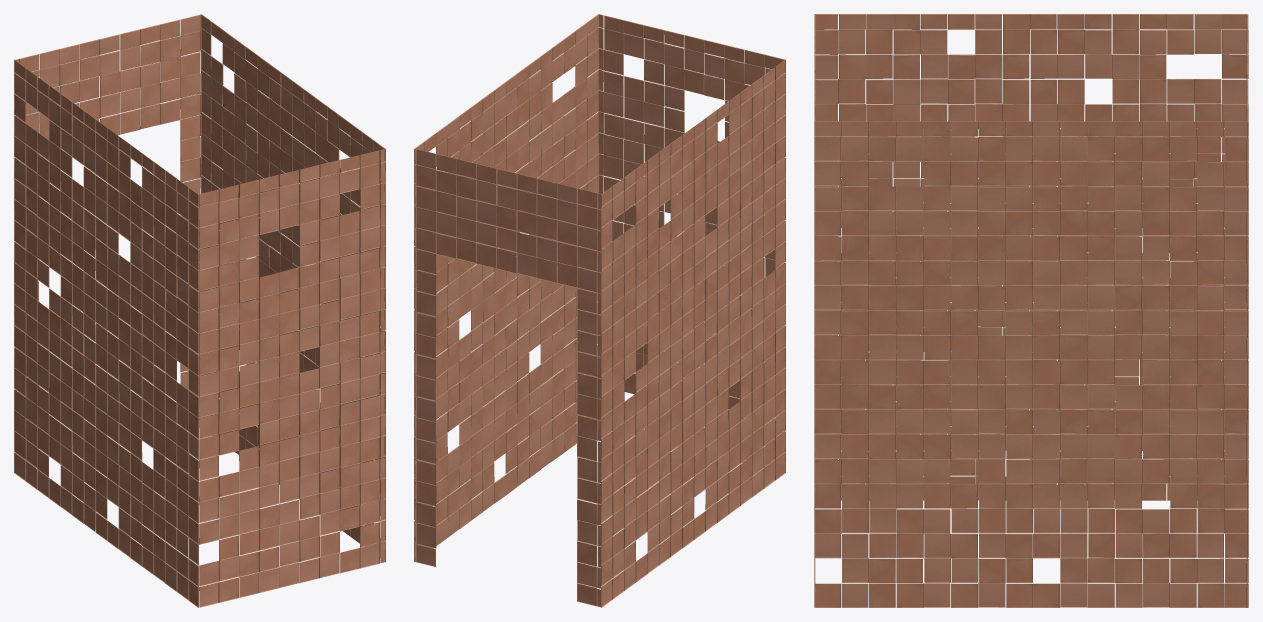
File: Plitka.FBX
The picture shows the model from 3 angles, left to right: view 1: azimuth 30°, elevation 25°; view 2: azimuth 150°, elevation 25°; view 3: azimuth 270°, elevation 25°; orthographic projection. The views are drawn at different scales.
Visible parts, largest first — view 1: Group170; view 2: Group170; view 3: Group170.
Boxes of the visible parts, x1=… form: Group170: x1=14, y1=14, x2=385, y2=607; Group170: x1=414, y1=14, x2=785, y2=607; Group170: x1=814, y1=14, x2=1248, y2=607.
Size of the model in its own units: 1424 by 3000 by 2427.
Materials: 5 (5 with a texture image).
